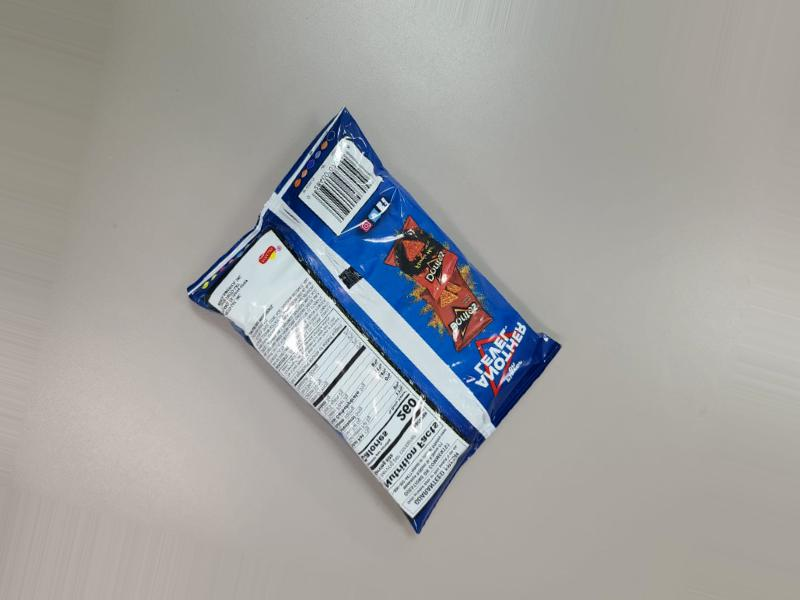doritos: (200, 106, 552, 552)
